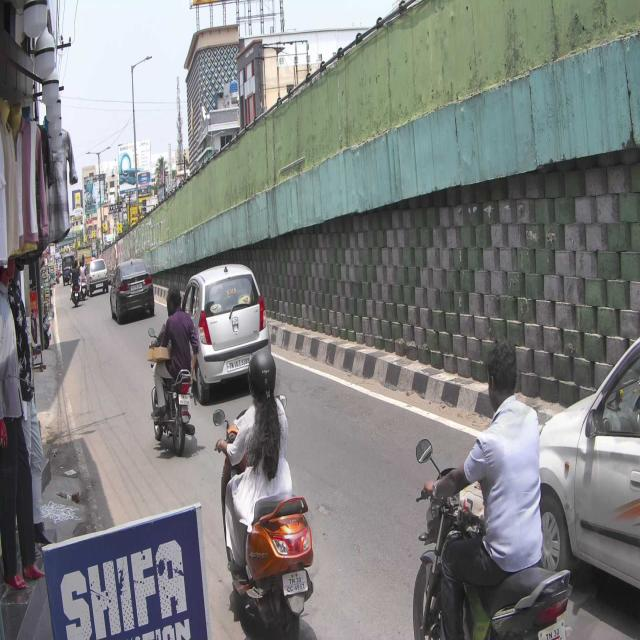double_rider: (148, 285, 199, 458)
single_rider: (413, 343, 573, 640), (213, 346, 321, 640)
